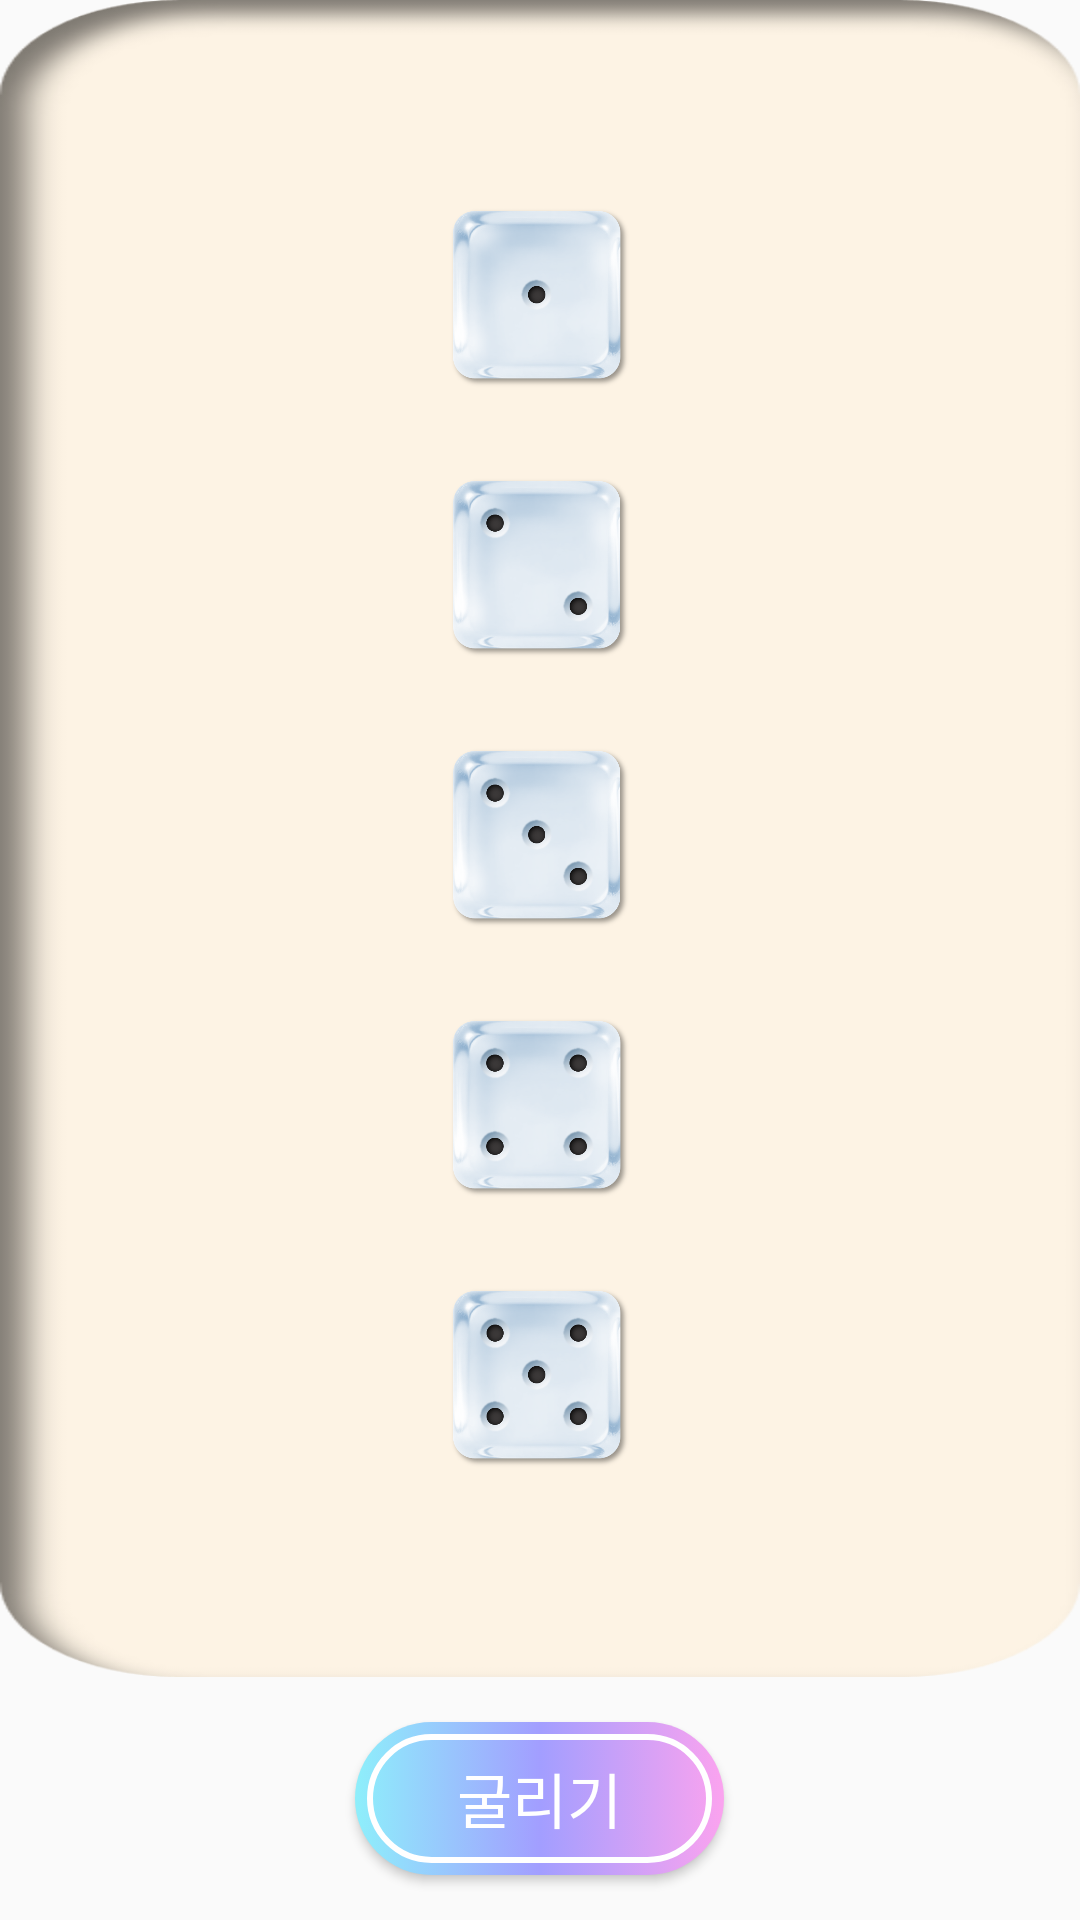

Icons on this 1080x1920 Android screen, each with the point to tap as (x,y):
Dice 1: (539,297)
Dice 2: (539,567)
Dice 3: (539,837)
Dice 4: (539,1107)
Dice 5: (539,1377)
